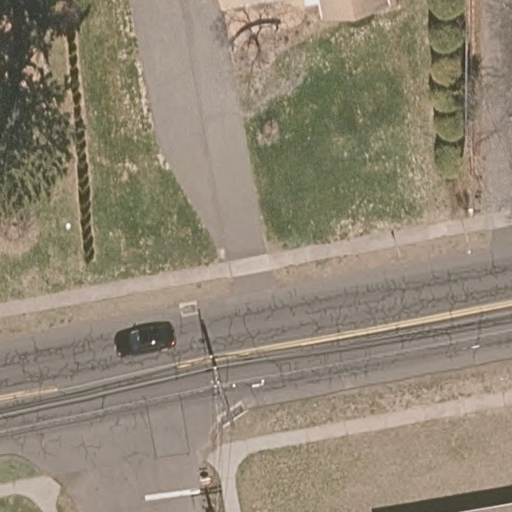DT: (210, 354, 248, 429)
